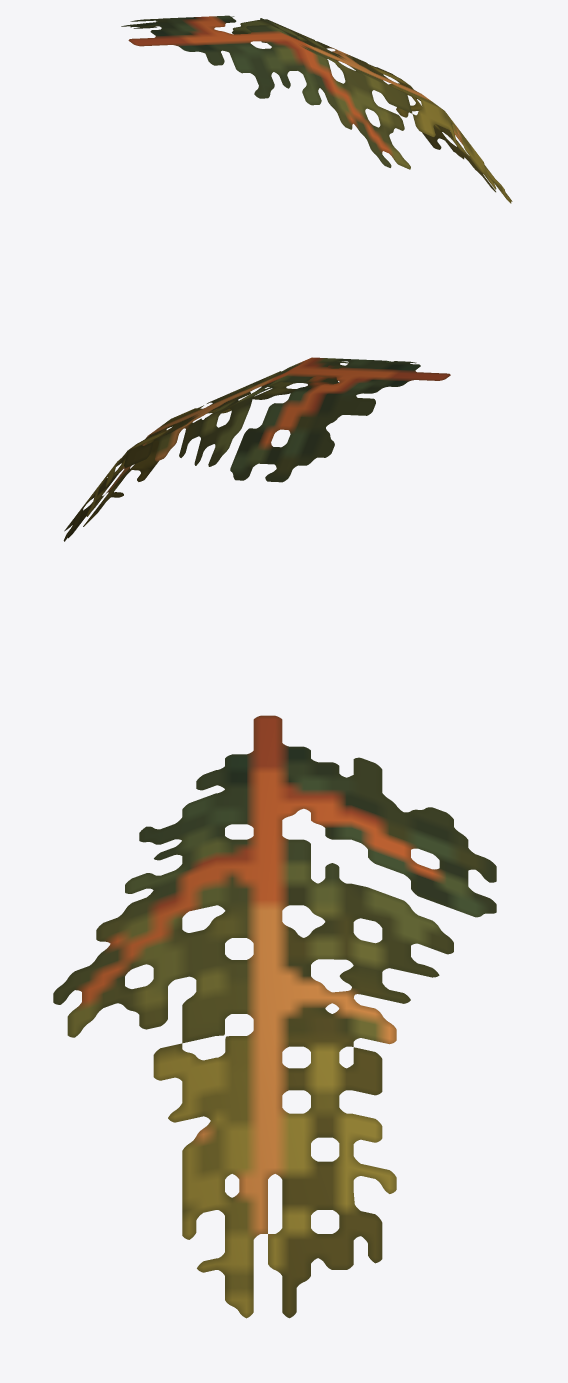
File: GR_Branch_01.FBX
3 renders of one model, top to bottom at view 1: azimuth 30°, elevation 25°; view 2: azimuth 150°, elevation 25°; view 3: azimuth 270°, elevation 25°, orthographic. The views are drawn at different scales.
Visible parts, largest first — view 1: GR_Branch_002; view 2: GR_Branch_002; view 3: GR_Branch_002.
Part boxes in pixels (left/top/right/bottom): GR_Branch_002: left=121, top=15, right=512, bottom=203; GR_Branch_002: left=63, top=357, right=450, bottom=541; GR_Branch_002: left=53, top=715, right=496, bottom=1318.
Size of the model in its own units: 316 by 230 by 262.
Materials: 1 (1 with a texture image).
